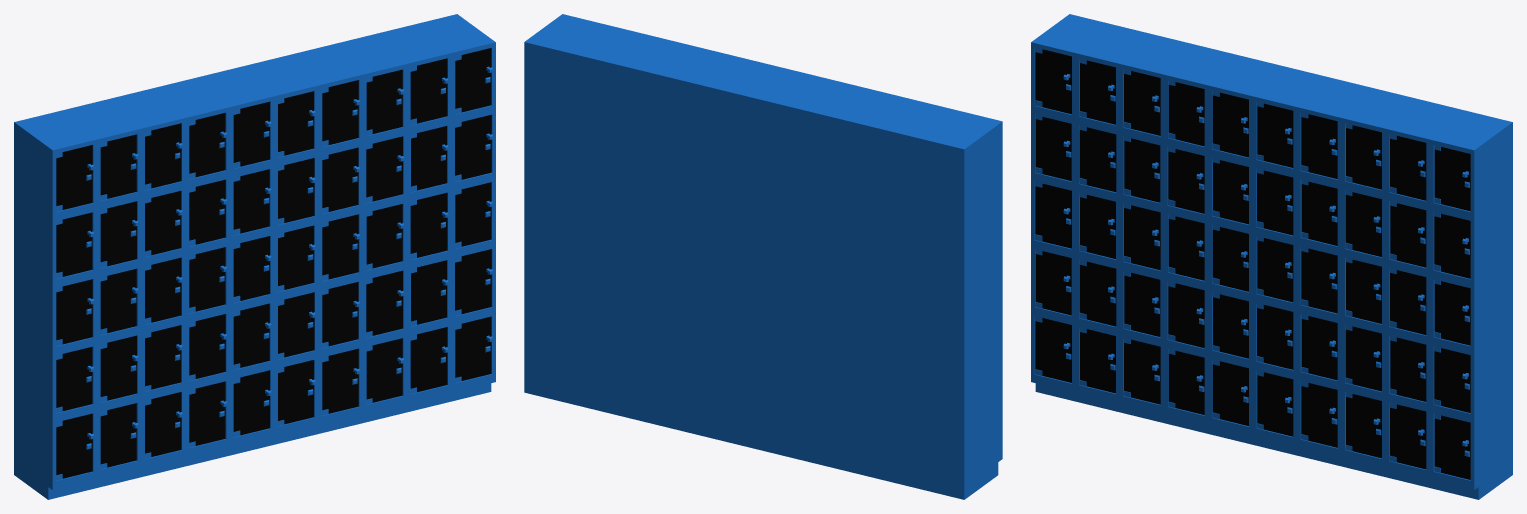
The model's file is PPM_storage_cabinet.fbx.
The picture shows the model from 3 angles, left to right: view 1: azimuth 30°, elevation 25°; view 2: azimuth 150°, elevation 25°; view 3: azimuth 330°, elevation 25°; orthographic projection.
Parts seen in each view (by area): view 1: Cube_35; view 2: Cube_35; view 3: Cube_35.
Part boxes in pixels (box(x1,y1,x2,y2)): Cube_35: box(14, 14, 495, 499); Cube_35: box(524, 14, 1002, 499); Cube_35: box(1031, 14, 1512, 499).
Bounding box in the file's own units: 286 × 218 × 46.52.
